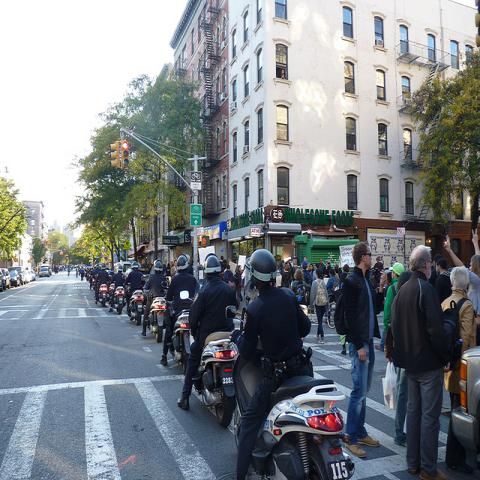car: (11, 267, 27, 285), (0, 268, 11, 291), (9, 269, 20, 287), (39, 266, 50, 277), (26, 270, 32, 284), (30, 270, 37, 281), (116, 264, 123, 274), (49, 269, 55, 276)
motorcycle: (234, 342, 355, 473), (180, 289, 242, 430), (162, 280, 192, 375), (141, 275, 170, 343), (124, 283, 148, 325), (107, 277, 126, 316), (99, 283, 110, 307), (91, 277, 96, 290), (88, 274, 92, 282), (86, 271, 89, 281), (84, 269, 86, 278)
truck: (450, 341, 479, 474)
